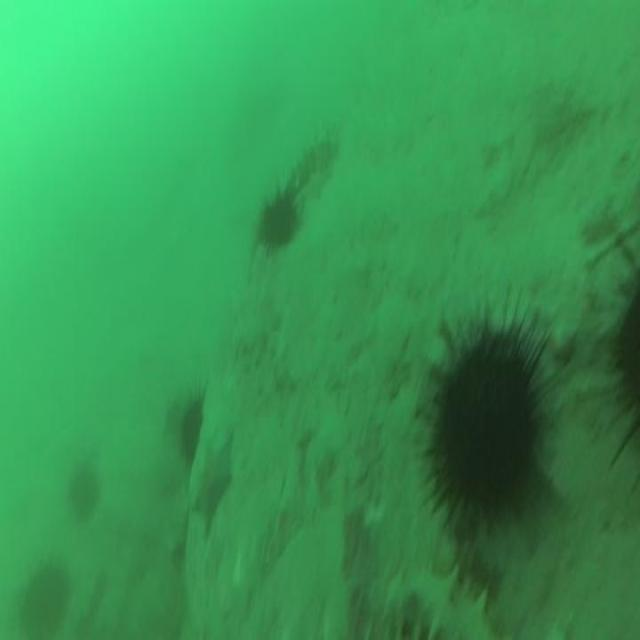echinus: (426, 313, 546, 532), (251, 172, 301, 259), (177, 392, 207, 466)
holothurian: (377, 542, 503, 640), (294, 128, 340, 186)
